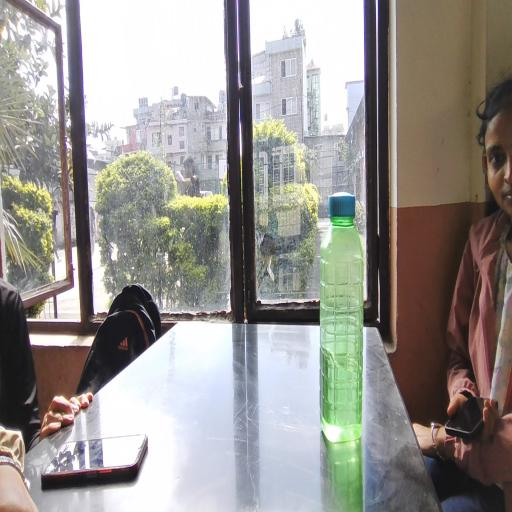Bottle: (324, 198, 366, 443)
